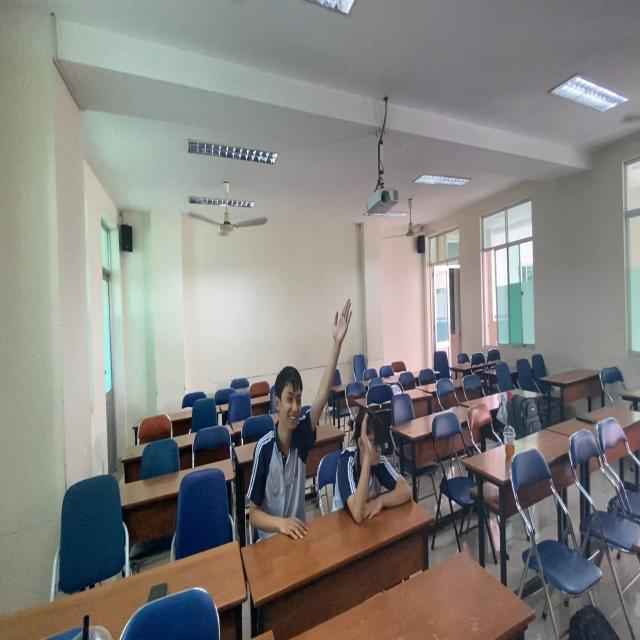raise_hand: (246, 296, 355, 559), (345, 408, 420, 534)
